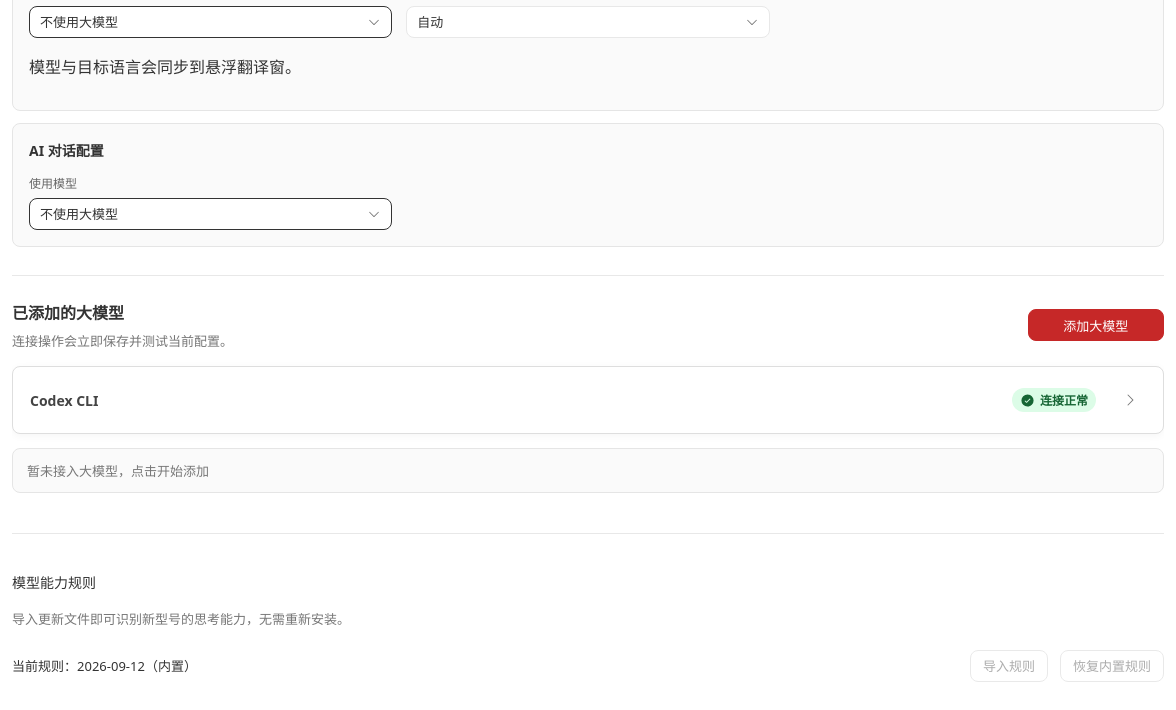
Test: re-tests Codex CLI without arguments and reconciles the full returned settings
(page scrolled)
What coordinates should you click on to do the following:
click the button with aria-label "Codex CLI详情"
I would click on:
 (64, 400)
Its box is [30,384,1146,416].
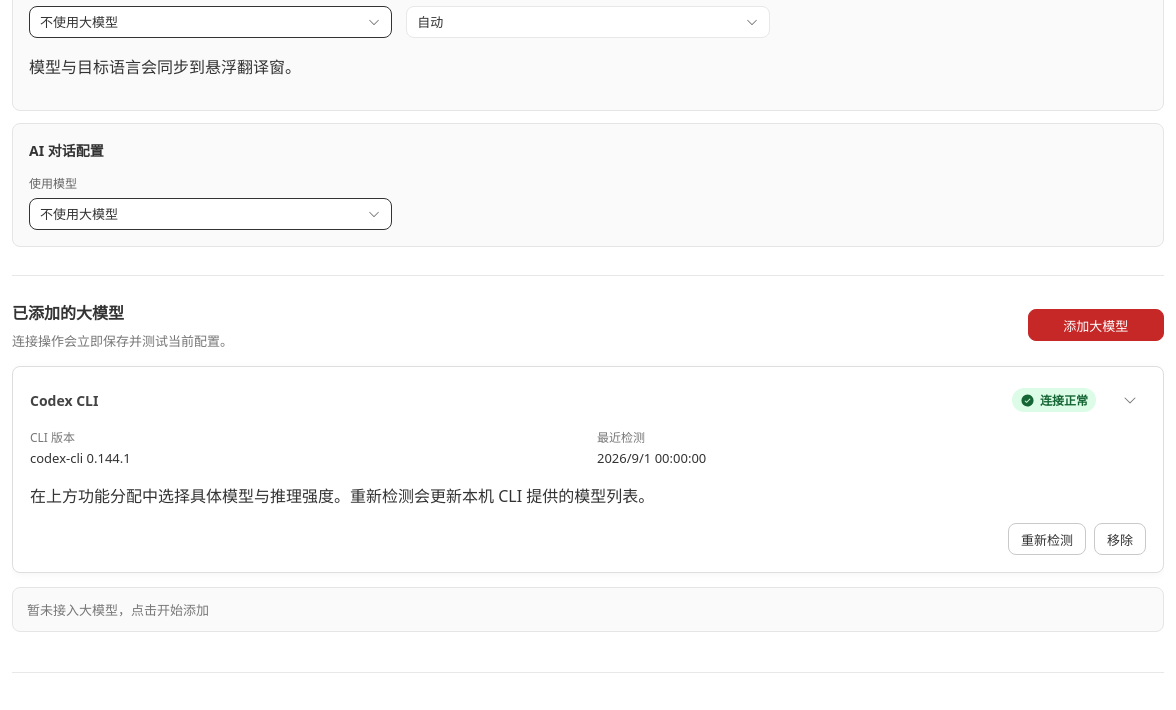
What coordinates should you click on to do the following:
click the button "重新检测"
I would click on:
 (1047, 539)
Its box is [1008,523,1086,555].
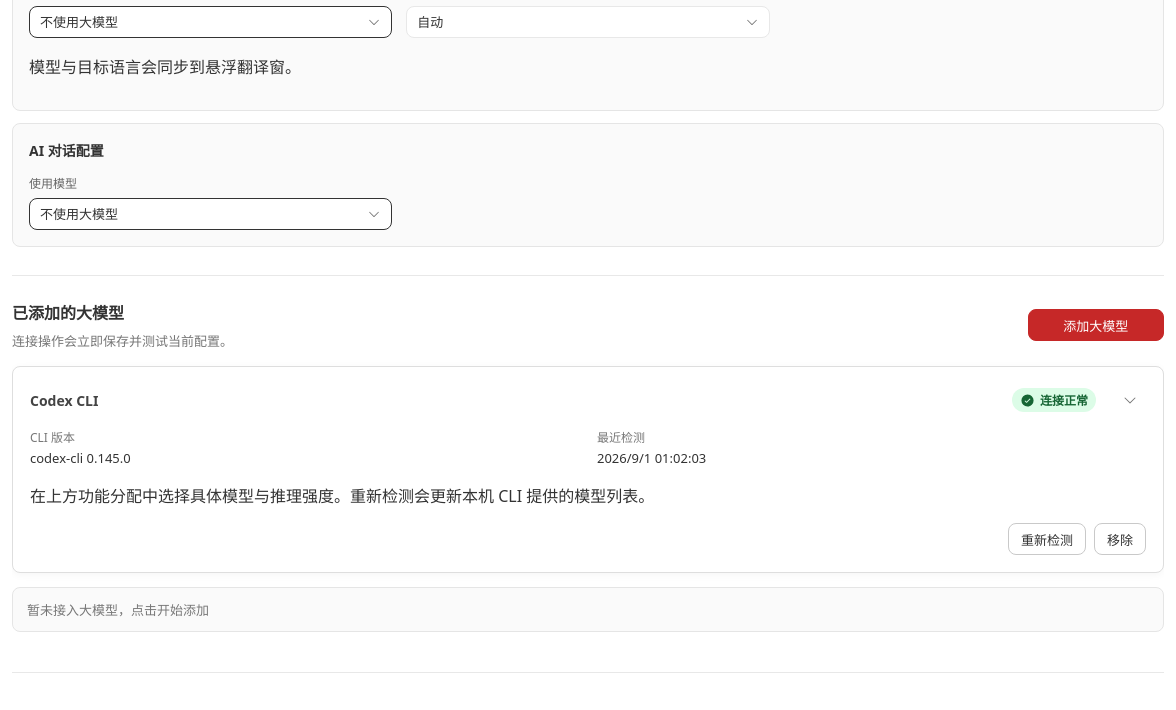
Check: the text "codex-cli 0.145.0" is shown, box [30,449,131,467]
